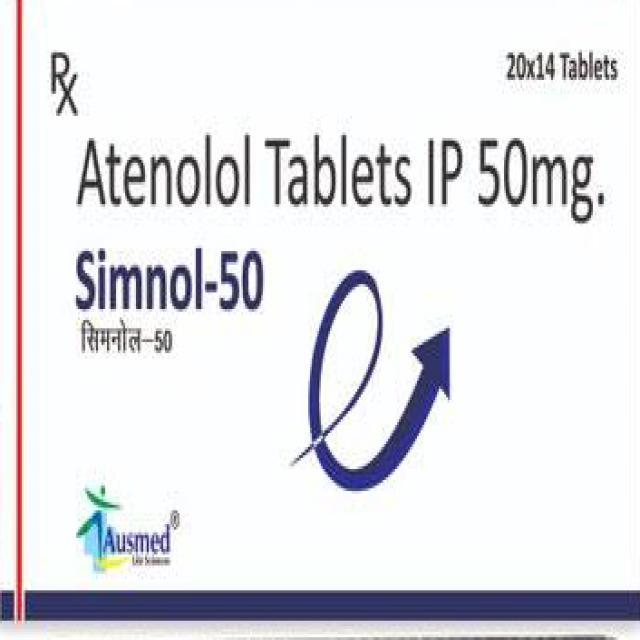drug-name: (76, 239, 264, 320)
